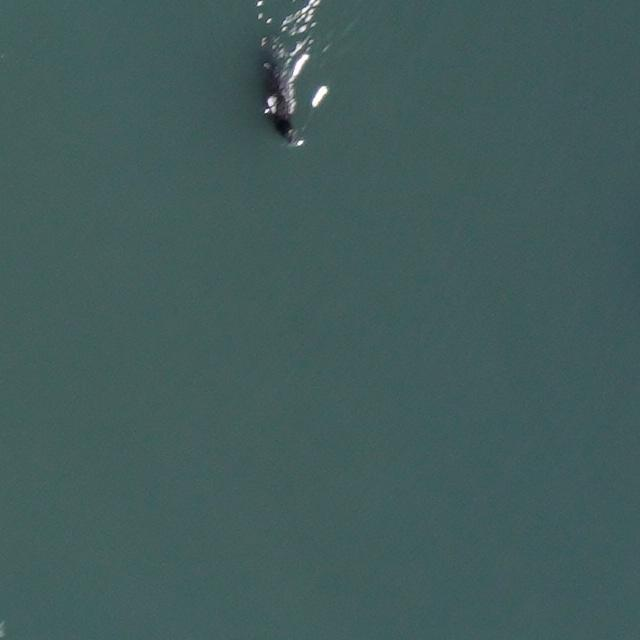seal: (254, 53, 302, 151)
